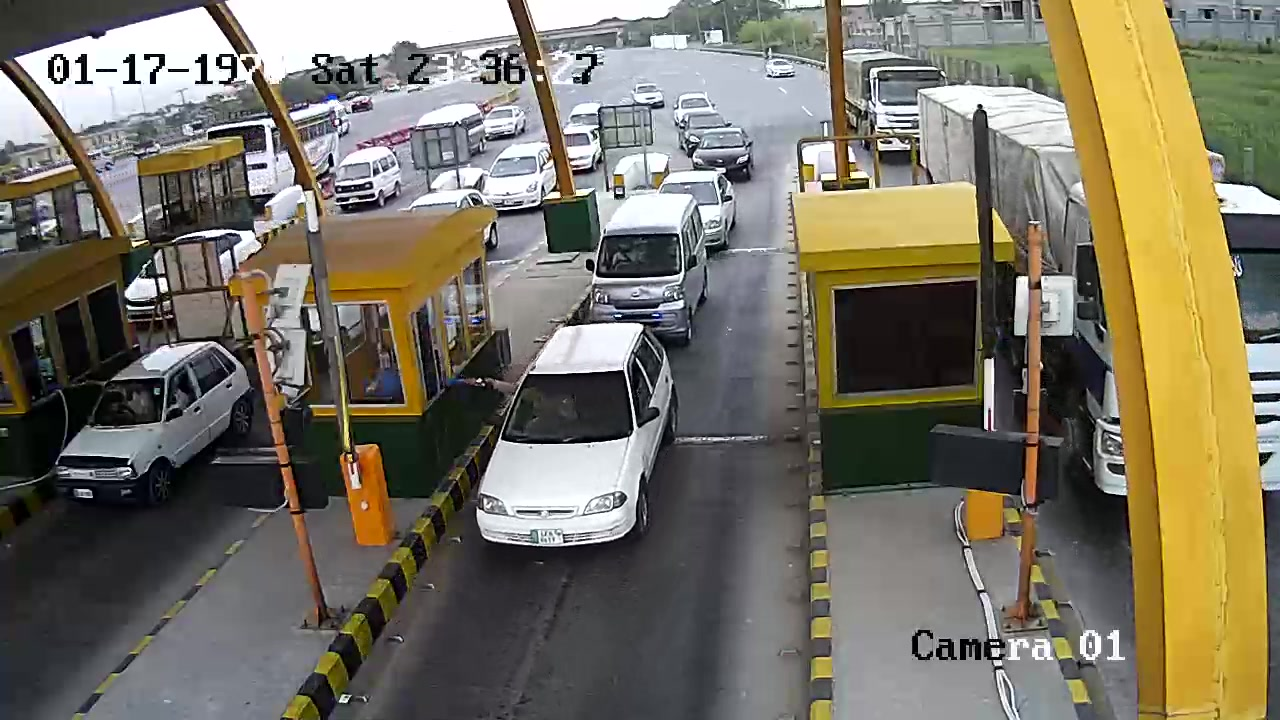F1: (466, 318, 700, 551), (577, 193, 720, 336)
